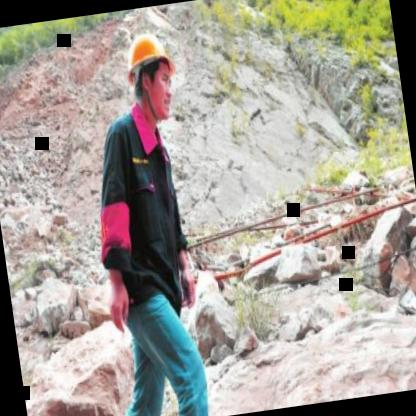helmet: (119, 24, 182, 125)
